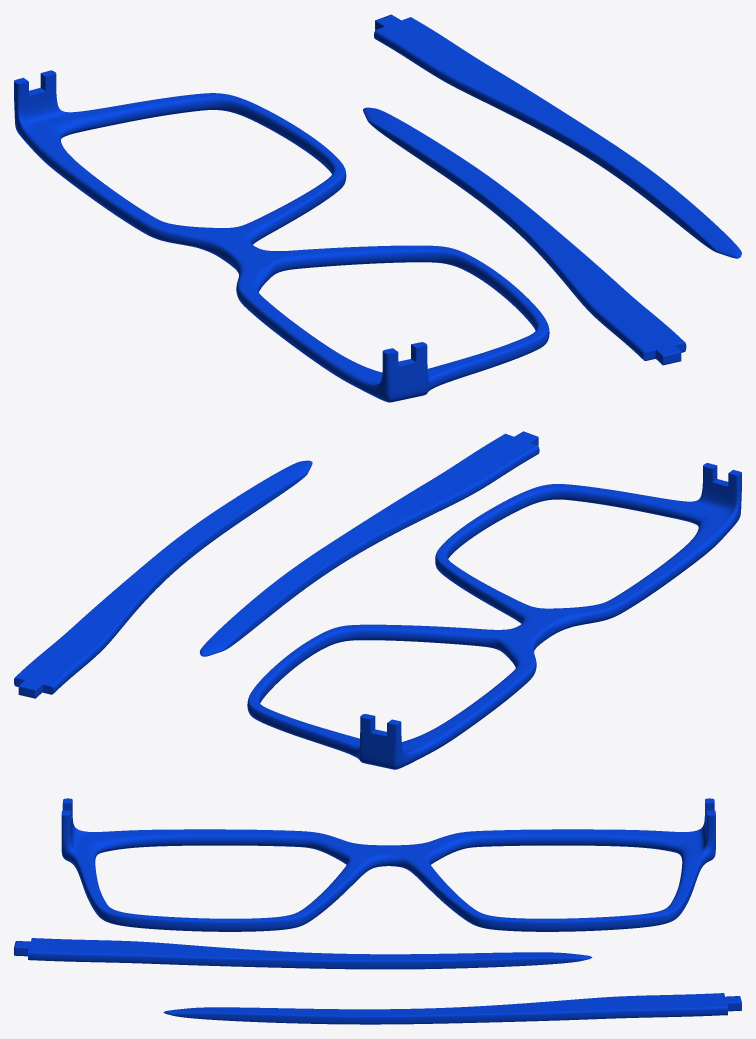
File: glasses.fbx
3 renders of one model, top to bottom at view 1: azimuth 30°, elevation 25°; view 2: azimuth 150°, elevation 25°; view 3: azimuth 270°, elevation 25°, orthographic. The views are drawn at different scales.
Visible parts, largest first — view 1: Cube.007, Cube.008; view 2: Cube.007, Cube.008; view 3: Cube.007, Cube.008.
Boxes of the visible parts, left/top/right/bottom form: Cube.007: left=14, top=70, right=549, bottom=402; Cube.008: left=363, top=14, right=741, bottom=365; Cube.007: left=247, top=463, right=741, bottom=769; Cube.008: left=14, top=431, right=539, bottom=698; Cube.007: left=61, top=798, right=715, bottom=931; Cube.008: left=14, top=938, right=741, bottom=1024.
Size of the model in its own units: 101 by 11.57 by 166.
